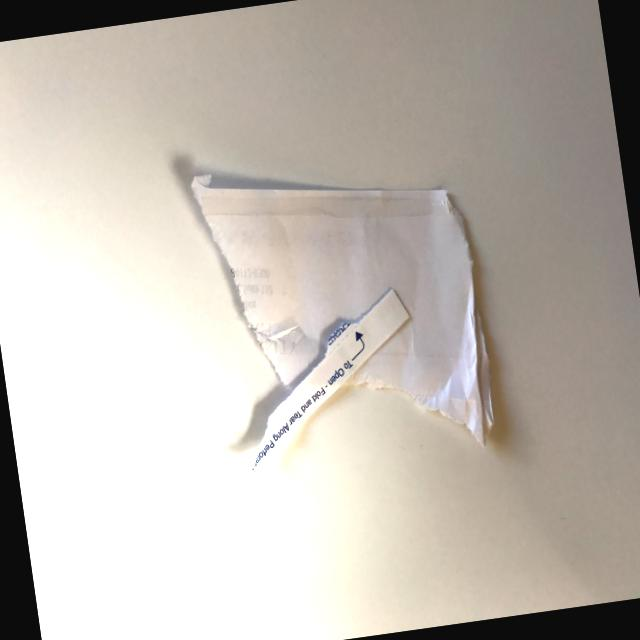Paper: (176, 115, 526, 502)
